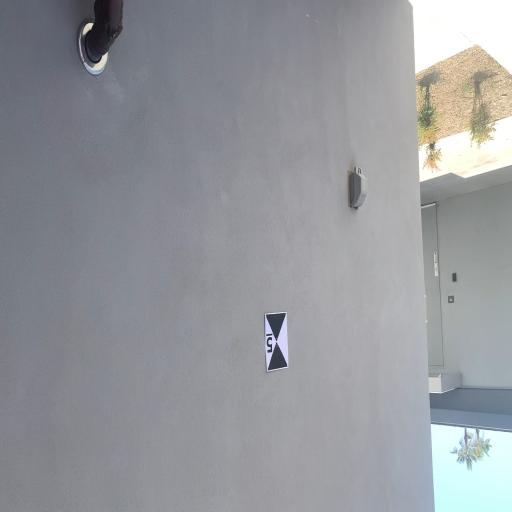target5: (265, 313, 288, 374)
